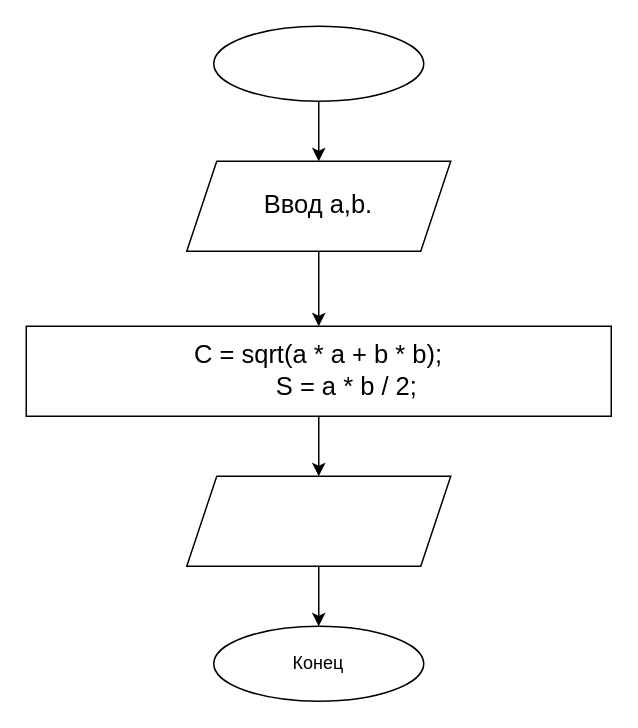
Some shapes in this 638 by 728 pixel diagram are drawn without their labels. The shapes that lost their labels are listed below. From the top down, each one's centre as x and y in pixels, then its label:
At point 318,63: "Начало".
At point 318,520: "Вывод C,S.".
